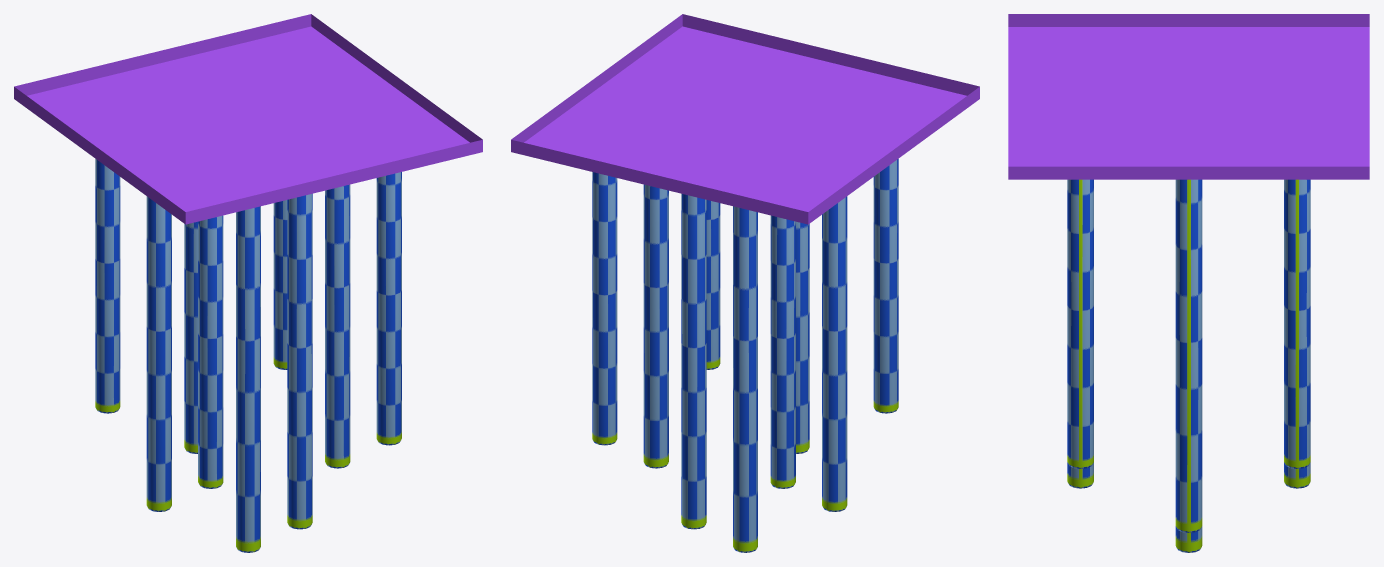
The model's file is LightCeiling14_1.FBX.
3 views of the same model, side by side, from view 1: azimuth 30°, elevation 25°; view 2: azimuth 150°, elevation 25°; view 3: azimuth 270°, elevation 25° (orthographic). The views are drawn at different scales.
Parts seen in each view (by area): view 1: LightCeiling14_1; view 2: LightCeiling14_1; view 3: LightCeiling14_1.
Part boxes in pixels (x1,y1,x2,y2): LightCeiling14_1: (14, 14, 482, 552); LightCeiling14_1: (511, 14, 979, 552); LightCeiling14_1: (1008, 14, 1369, 552).
Size of the model in its own units: 50 by 70 by 50.
